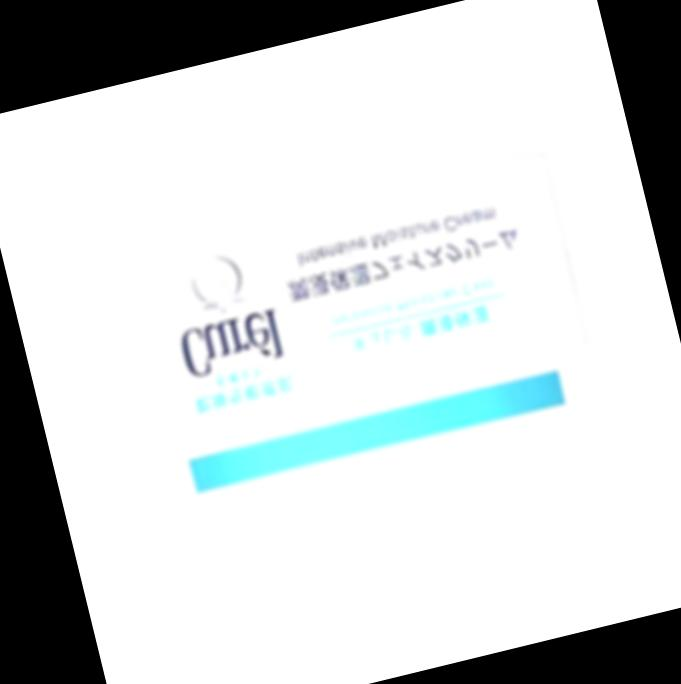cosmetic: (91, 148, 627, 590)
